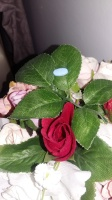Majezik: (52, 67, 69, 77)
